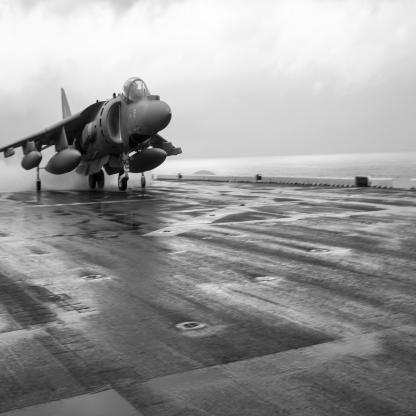AV8B: (1, 78, 183, 192)
